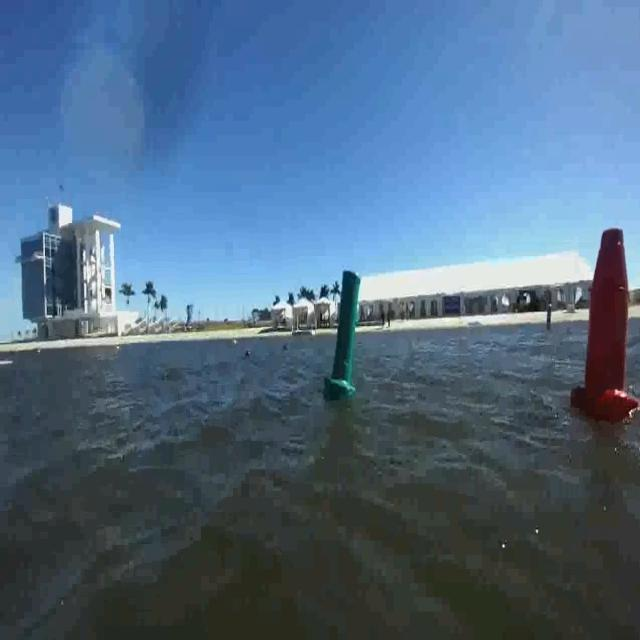green-column-buoy: (326, 270, 363, 398)
red-column-buoy: (569, 227, 637, 423)
